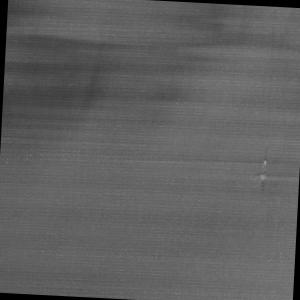Damage: (252, 146, 276, 205)
Wrinkle: (1, 1, 257, 165)
